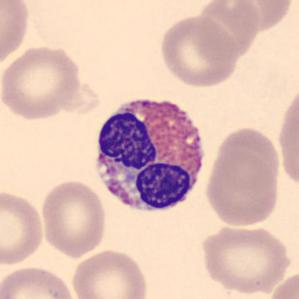Eosinophil: (88, 88, 213, 221)
RBC: (198, 222, 292, 296), (0, 43, 84, 122), (202, 148, 282, 228), (157, 13, 241, 89), (38, 177, 109, 260), (210, 125, 283, 197), (190, 0, 264, 65), (69, 247, 150, 299), (0, 187, 47, 269), (0, 263, 80, 299), (274, 84, 299, 192), (222, 0, 296, 34), (0, 0, 32, 70), (266, 268, 299, 299)
